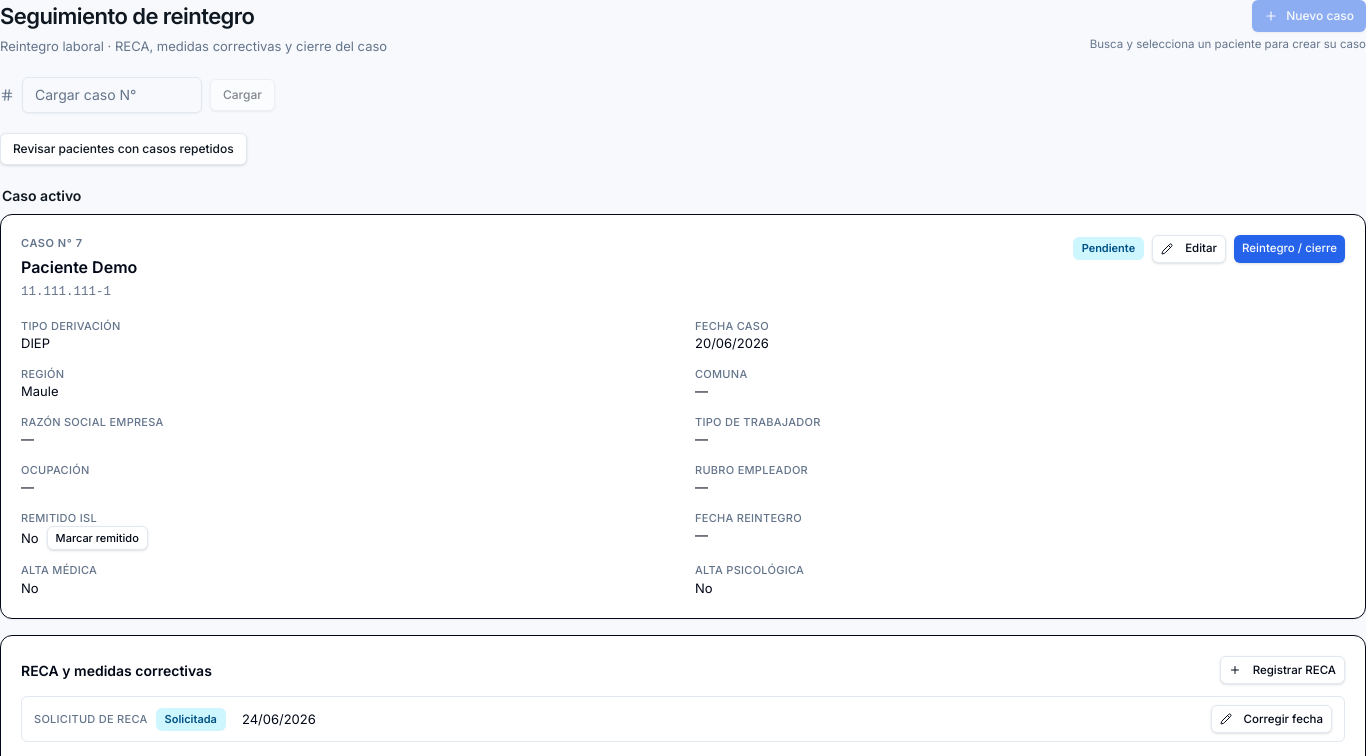
Test: ReintegroPage: solicitud de RECA › con fecha y sin RECA está Solicitada y permite corregir la fecha
Expected: the text with test id "estado-solicitud-reca" reads "Solicitada", [165, 712, 217, 726]
Expected: the text with test id "fecha-solicitud-reca" shows "24", [242, 710, 316, 726]
Click the button "Corregir fecha" at (1271, 719), box [1211, 705, 1332, 733]
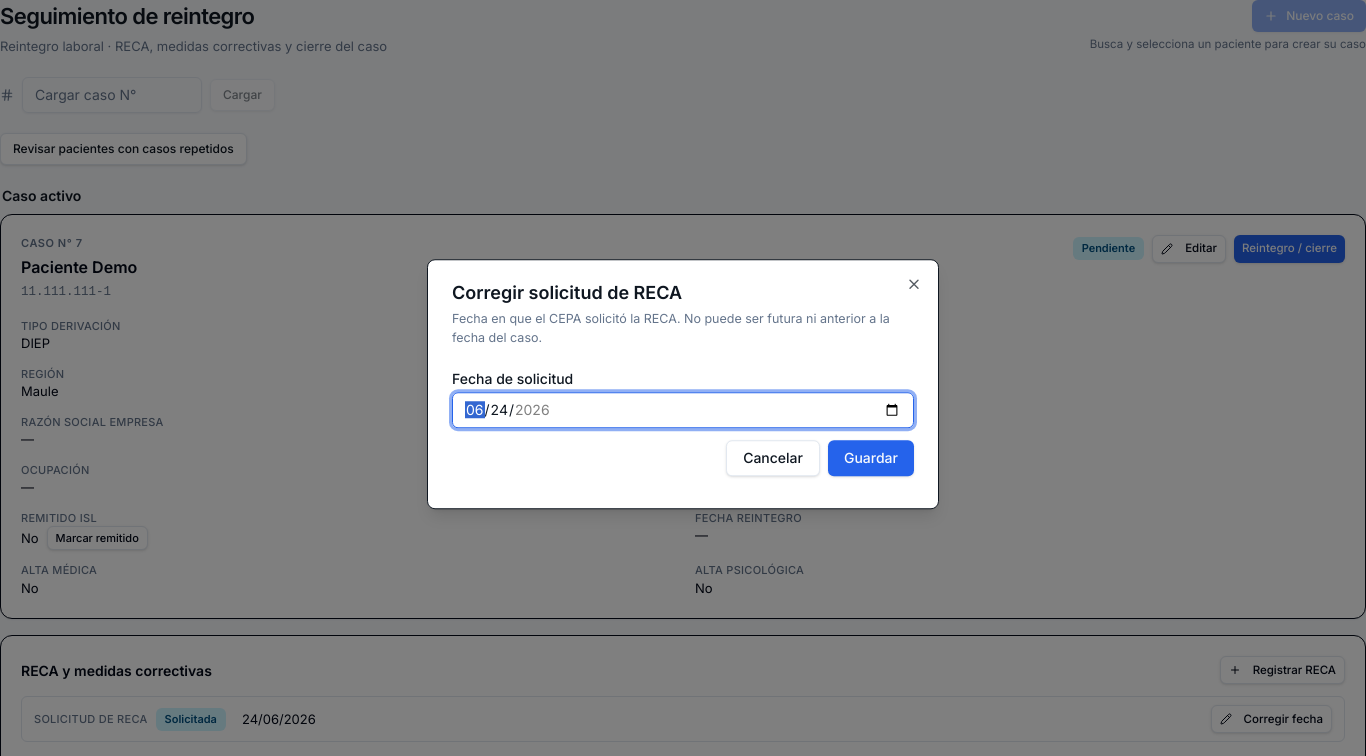
Result: the heading "Corregir solicitud de RECA" is shown at [452, 282, 682, 303]
